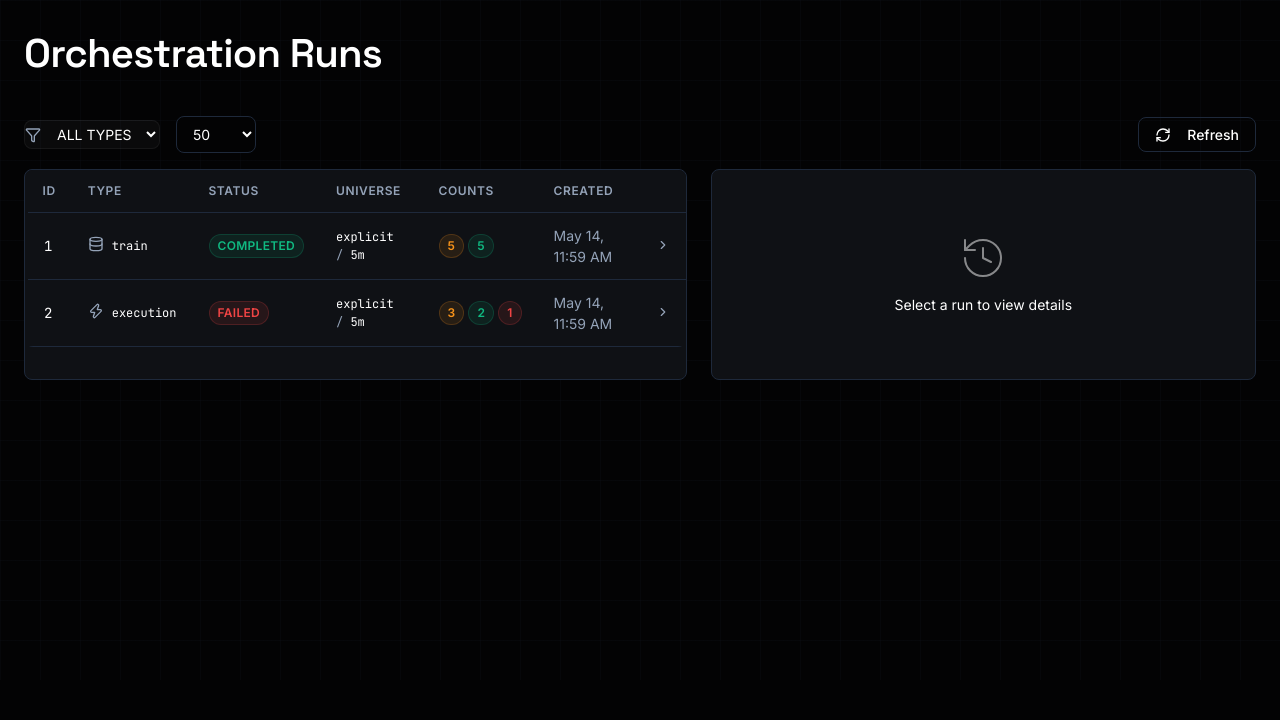
it: RunsPage › shows run details when a row is clicked
Click the row with test id "run-row-1" at (356, 246), box [26,212,686,280]
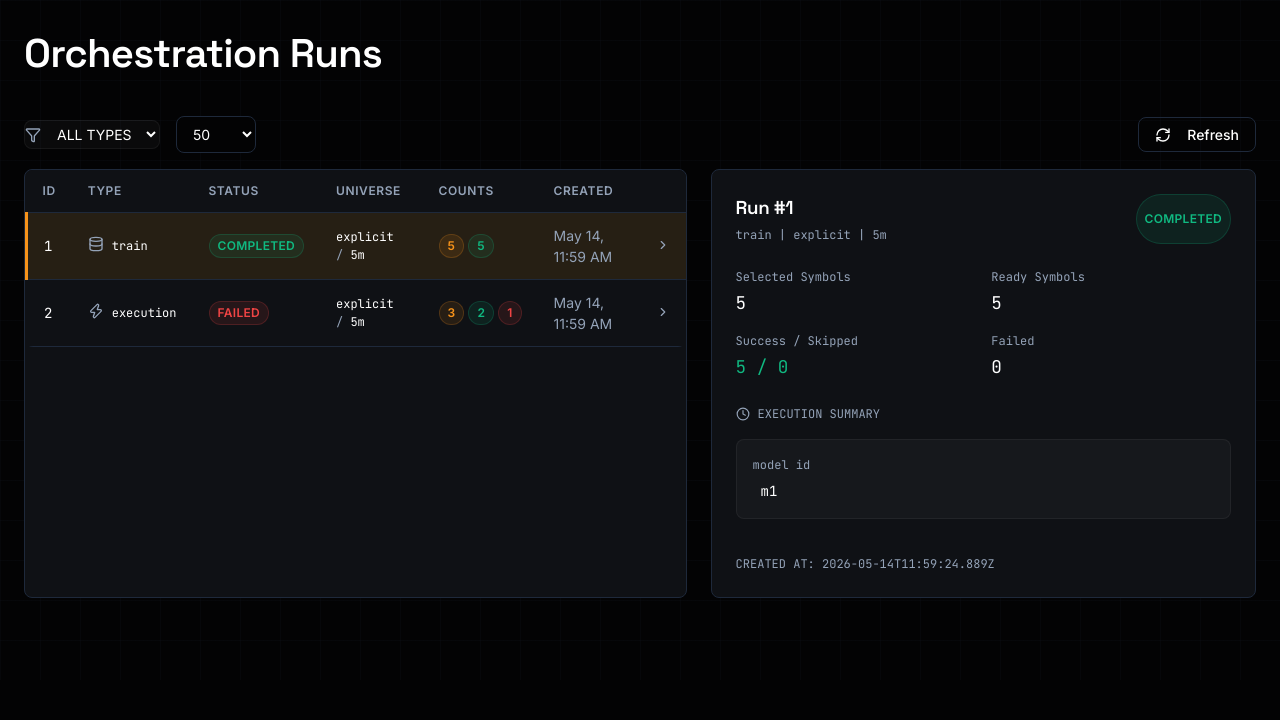
Result: the heading "Run #1" is shown at [736,196,793,219]
Result: the text "model id" is shown at [753,457,810,473]
Result: the text "m1" is shown at [761,482,777,500]
